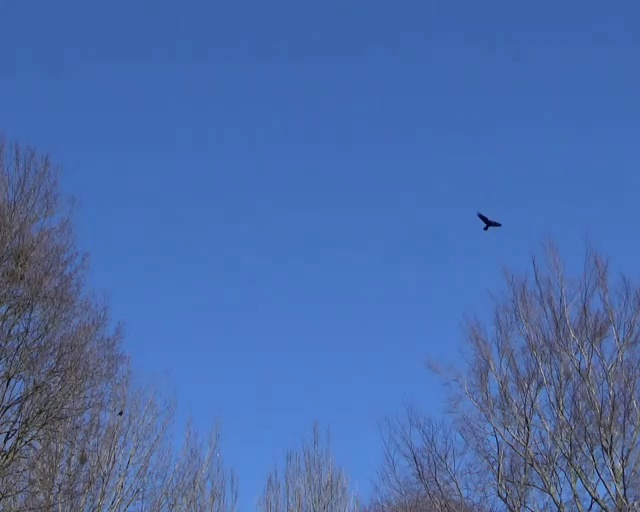BIRD: (477, 213, 502, 231)
